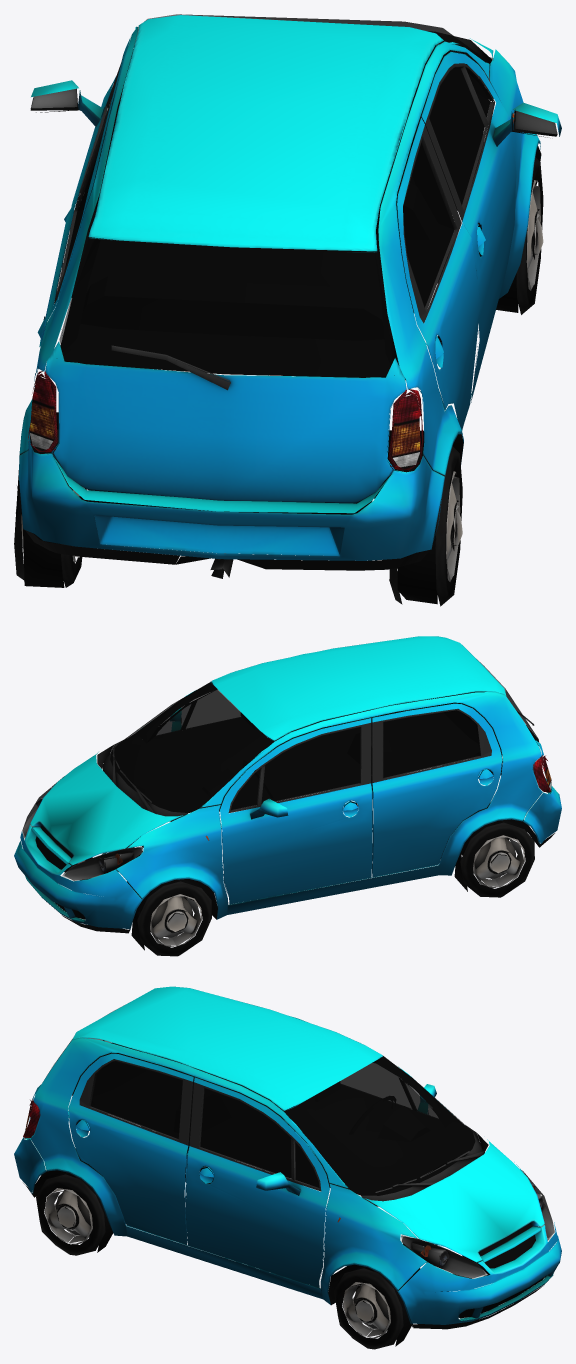
File: car.glb
3 renders of one model, top to bottom at view 1: azimuth 30°, elevation 25°; view 2: azimuth 150°, elevation 25°; view 3: azimuth 270°, elevation 25°, orthographic. The views are drawn at different scales.
Visible parts, largest first — view 1: Compact Body, Wheel_C002, Wheel_C001, Wheel_C003; view 2: Compact Body, Wheel_C, Wheel_C001; view 3: Compact Body, Wheel_C003, Wheel_C002.
Part boxes in pixels (left/top/right/bottom): Compact Body: left=18, top=14, right=561, bottom=578; Wheel_C002: left=389, top=446, right=462, bottom=606; Wheel_C001: left=14, top=429, right=86, bottom=587; Wheel_C003: left=478, top=157, right=543, bottom=314; Compact Body: left=14, top=636, right=561, bottom=933; Wheel_C: left=131, top=879, right=211, bottom=956; Wheel_C001: left=454, top=820, right=534, bottom=897; Compact Body: left=14, top=986, right=561, bottom=1329; Wheel_C003: left=334, top=1266, right=412, bottom=1349; Wheel_C002: left=36, top=1172, right=113, bottom=1255.
Size of the model in its own units: 2.66 by 1.32 by 3.07.
Materials: 4 (3 with a texture image).
